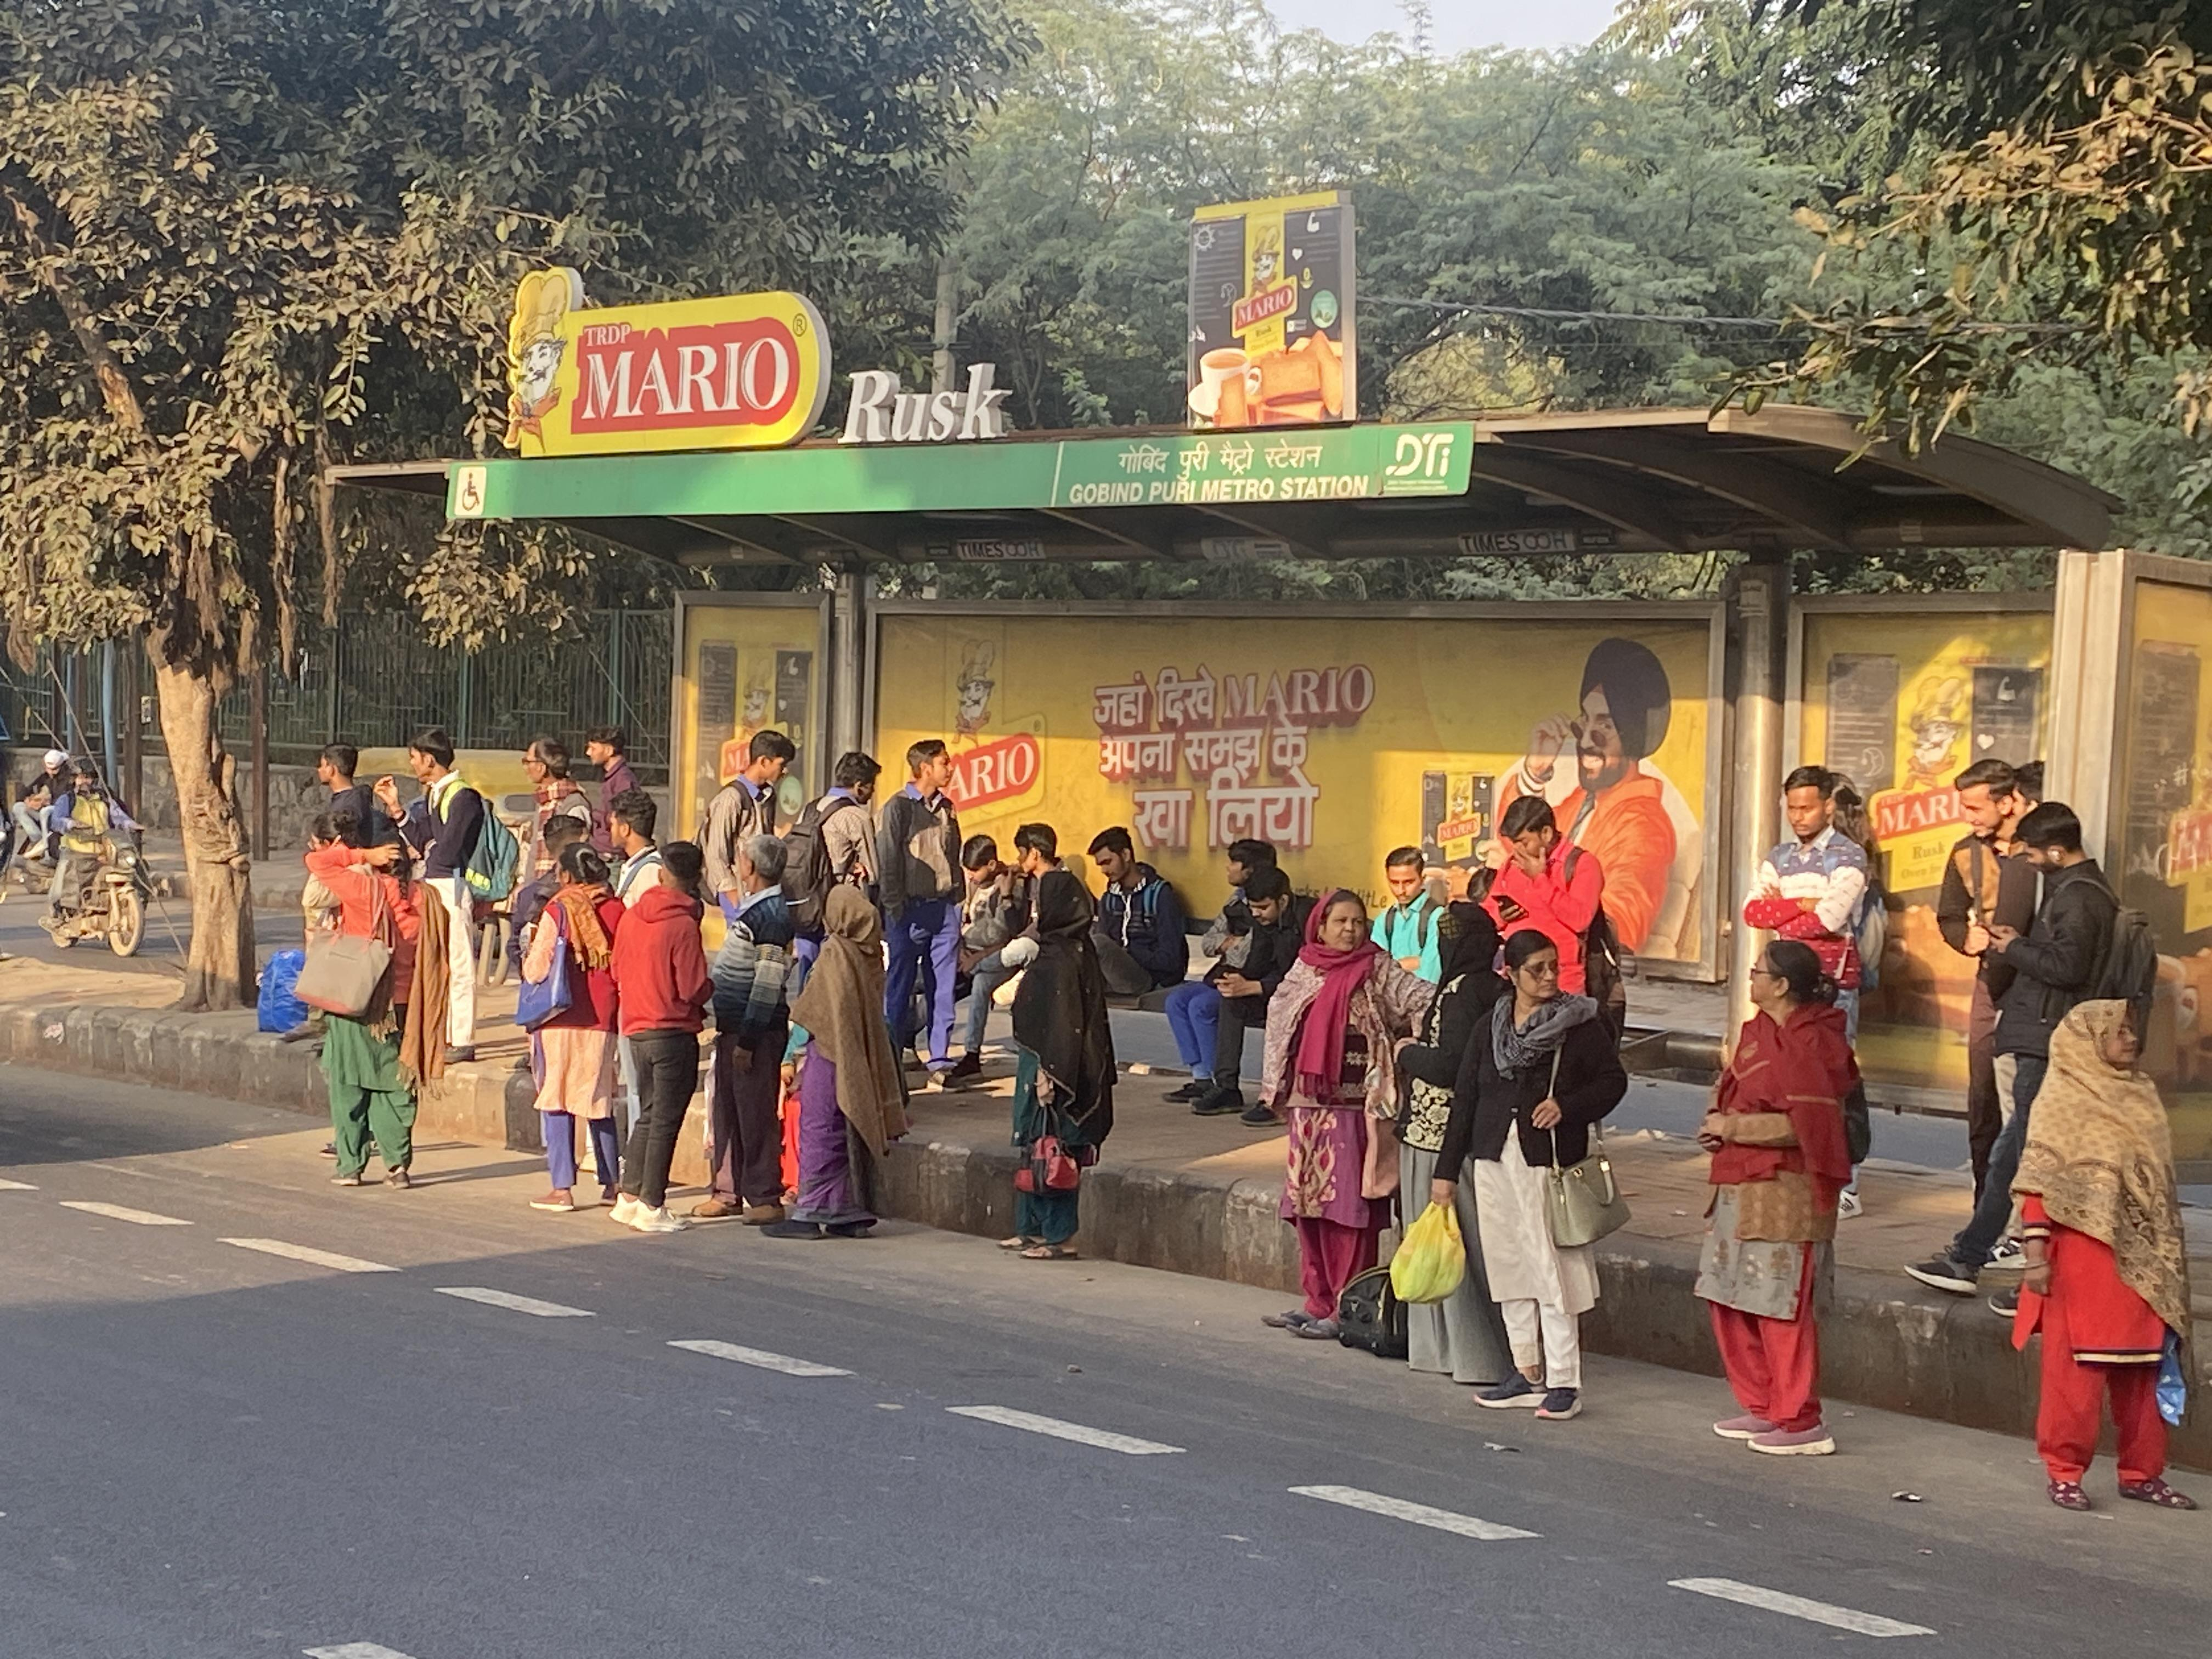Bus-stop-board: (416, 406, 1487, 544)
